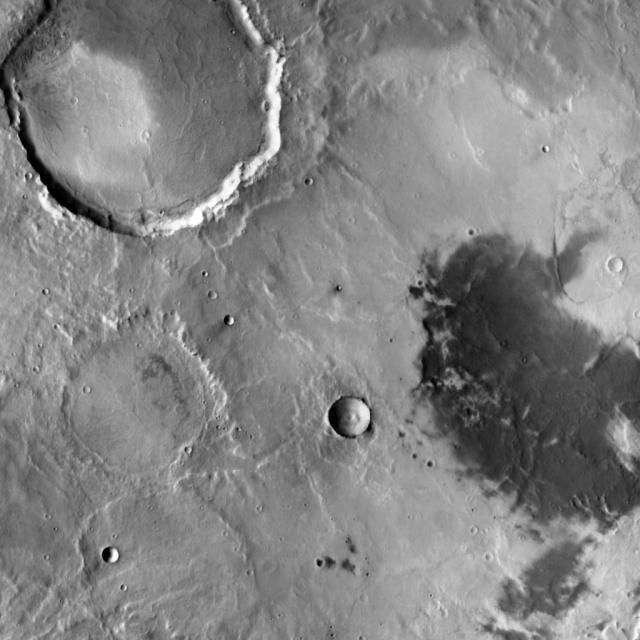crater: (9, 0, 282, 234), (82, 490, 247, 640), (62, 323, 217, 479), (501, 32, 584, 115), (331, 397, 371, 437), (104, 547, 118, 562), (610, 255, 624, 270), (470, 35, 482, 47), (224, 315, 234, 325), (599, 500, 609, 510), (468, 227, 478, 236), (428, 458, 438, 467), (83, 385, 92, 394), (305, 175, 314, 184), (574, 496, 582, 505), (318, 559, 326, 567), (210, 290, 218, 298), (180, 438, 188, 446), (479, 545, 487, 553), (543, 144, 551, 152), (620, 44, 628, 52), (361, 593, 369, 601), (334, 49, 342, 56), (19, 164, 26, 172), (36, 282, 43, 289), (143, 132, 150, 139), (592, 486, 599, 493), (466, 518, 472, 526), (64, 90, 71, 96), (28, 360, 34, 366), (342, 209, 348, 215), (361, 635, 368, 640), (408, 446, 413, 452), (632, 304, 636, 310)
